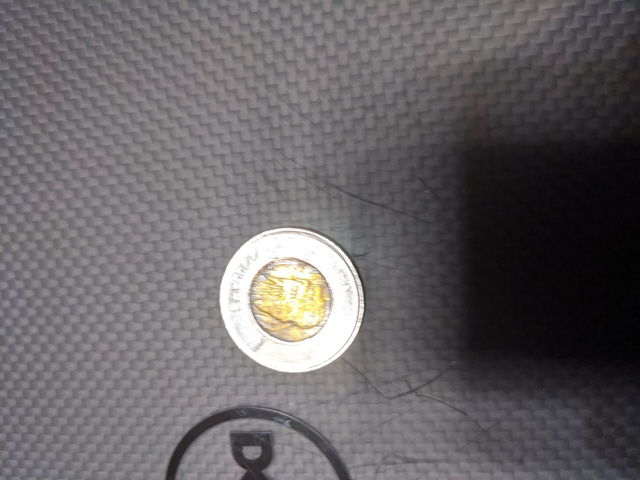twonie: (208, 215, 380, 385)
